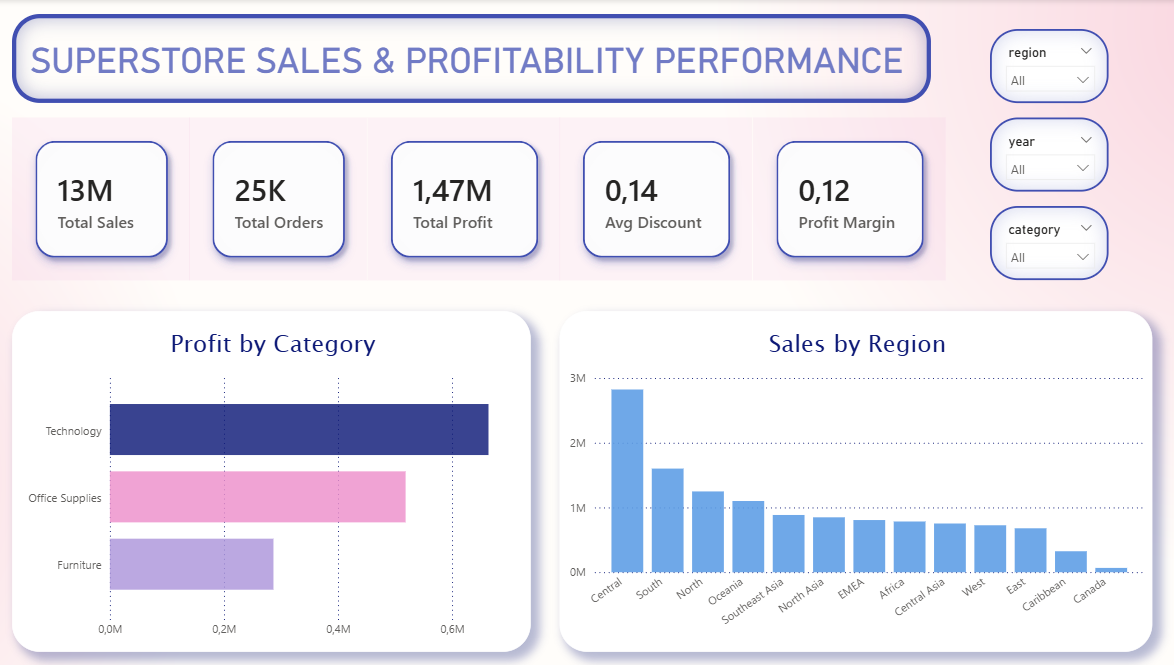

What the dashboard file says about the page in this screenshot:
{"tool":"powerbi","page":{"name":"Page 1","canvas":[1280,720],"ordinal":0},"visuals":[{"type":"cardVisual","fields":{"Data":["Sheet1.Total Sales"]},"box":[16,128,192,176],"z":0},{"type":"slicer","fields":{"Values":["Sheet1.region"]},"box":[1072,32,128,80],"z":1000},{"type":"cardVisual","fields":{"Data":["Sheet1.Total Profit"]},"box":[400,128,208,176],"z":2000},{"type":"slicer","fields":{"Values":["Sheet1.year"]},"box":[1072,128,128,80],"z":3000},{"type":"cardVisual","fields":{"Data":["Sheet1.Total Orders"]},"box":[208,128,192,176],"z":4000},{"type":"clusteredColumnChart","title":"Sales by Region","fields":{"Category":["Sheet1.region"],"Y":["Sheet1.Total Sales"]},"box":[608,336,640,368],"z":5000},{"type":"cardVisual","fields":{"Data":["Sheet1.Average Discount"]},"box":[608,128,208,176],"z":6000},{"type":"slicer","fields":{"Values":["Sheet1.category"]},"box":[1072,224,128,80],"z":7000},{"type":"cardVisual","fields":{"Data":["Sheet1.Profit Margin"]},"box":[816,128,208,176],"z":8000},{"type":"barChart","title":"Profit by Category","fields":{"Category":["Sheet1.category"],"Y":["Sheet1.Total Profit"]},"box":[16,336,560,368],"z":9000},{"type":"textbox","box":[16,16,992,96],"z":10000}]}

Visuals, with their boxes in screenshot pixels (x1, y1, x2, y2), scaled from the page's 1280x720 canvas onto the 1174x665 screenshot:
cardVisual - Sheet1.Total Sales: <bbox>15, 118, 191, 281</bbox>
slicer - Sheet1.region: <bbox>983, 30, 1101, 103</bbox>
cardVisual - Sheet1.Total Profit: <bbox>367, 118, 558, 281</bbox>
slicer - Sheet1.year: <bbox>983, 118, 1101, 192</bbox>
cardVisual - Sheet1.Total Orders: <bbox>191, 118, 367, 281</bbox>
"Sales by Region" clusteredColumnChart: <bbox>558, 310, 1145, 650</bbox>
cardVisual - Sheet1.Average Discount: <bbox>558, 118, 748, 281</bbox>
slicer - Sheet1.category: <bbox>983, 207, 1101, 281</bbox>
cardVisual - Sheet1.Profit Margin: <bbox>748, 118, 939, 281</bbox>
"Profit by Category" barChart: <bbox>15, 310, 528, 650</bbox>
textbox: <bbox>15, 15, 925, 103</bbox>
